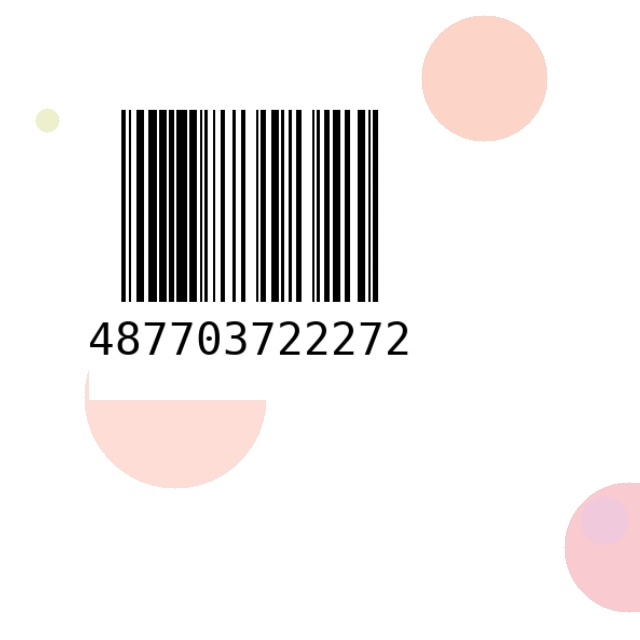barcode: (89, 98, 410, 400)
